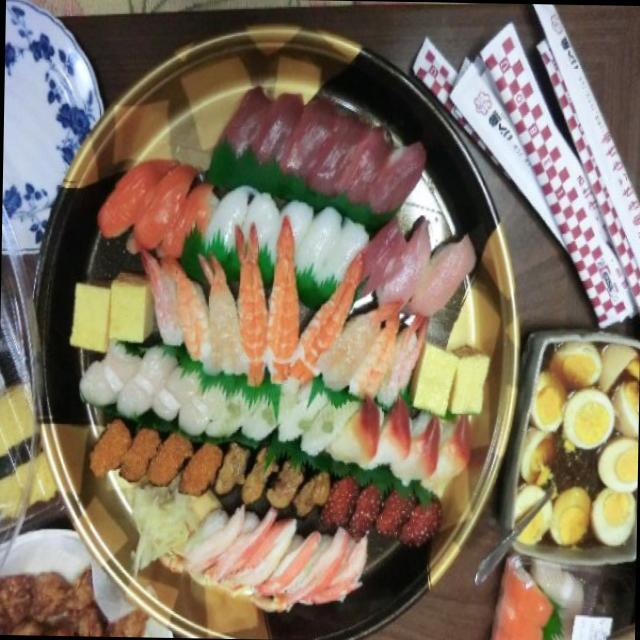Sushi: (85, 152, 457, 620)
